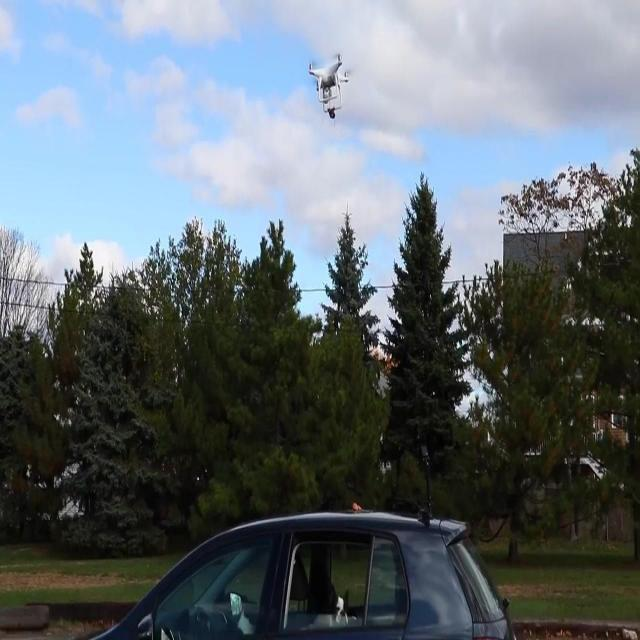UAV: (308, 53, 351, 119)
